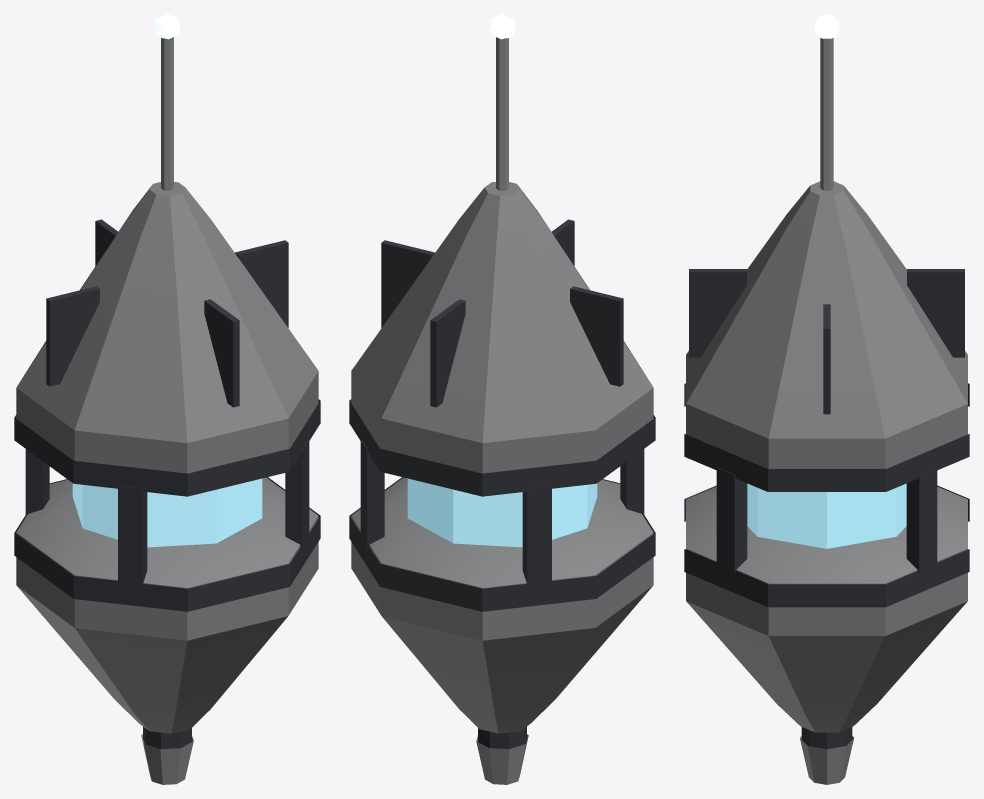
The model's file is buoy.glb.
The picture shows the model from 3 angles, left to right: view 1: azimuth 30°, elevation 25°; view 2: azimuth 150°, elevation 25°; view 3: azimuth 270°, elevation 25°; orthographic projection.
Visible parts, largest first — view 1: body, core; view 2: body, core; view 3: body, core, light_tip.
Part boxes in pixels (bbox=[...]): body: bbox=[14, 37, 320, 784]; core: bbox=[72, 478, 262, 547]; body: bbox=[349, 37, 655, 784]; core: bbox=[407, 478, 597, 547]; body: bbox=[684, 38, 969, 784]; core: bbox=[747, 483, 906, 548]; light_tip: bbox=[814, 14, 839, 38].
Size of the model in its own units: 0.7853 by 2.32 by 0.7853.
